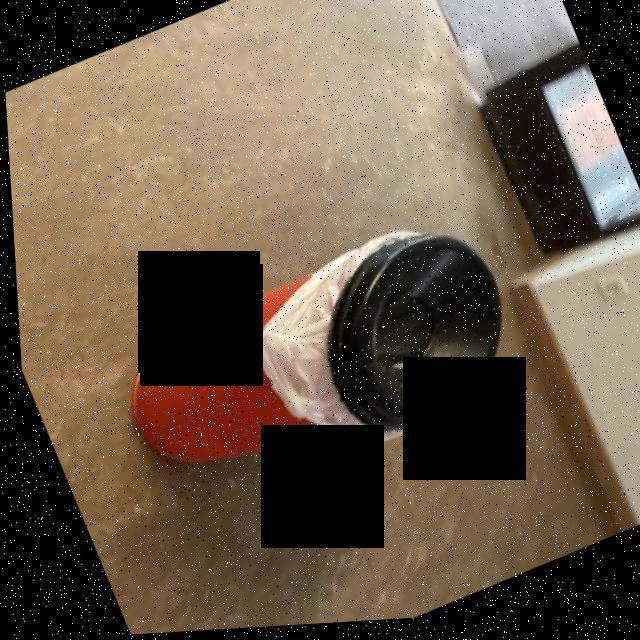bin: (50, 170, 587, 561)
